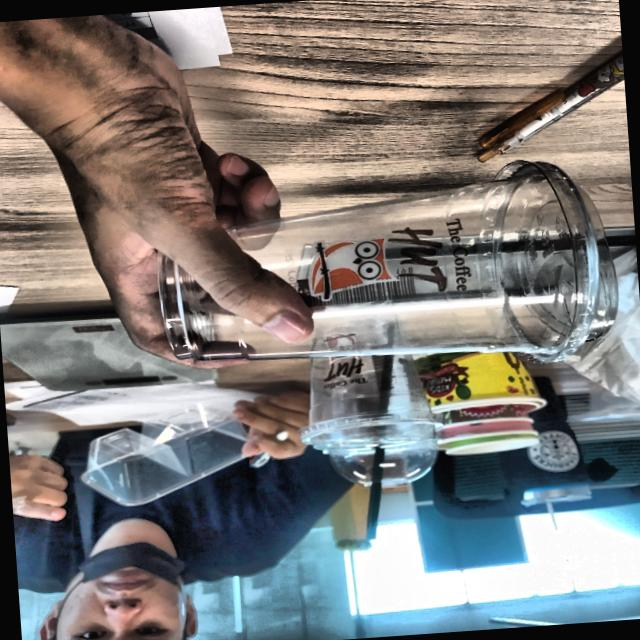plastic cup: (142, 145, 624, 397)
